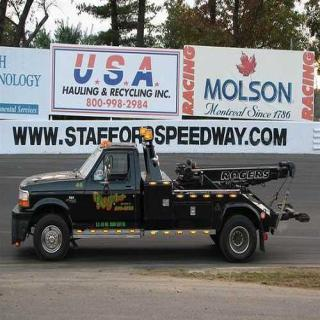Towing_truck: (9, 126, 308, 264)
